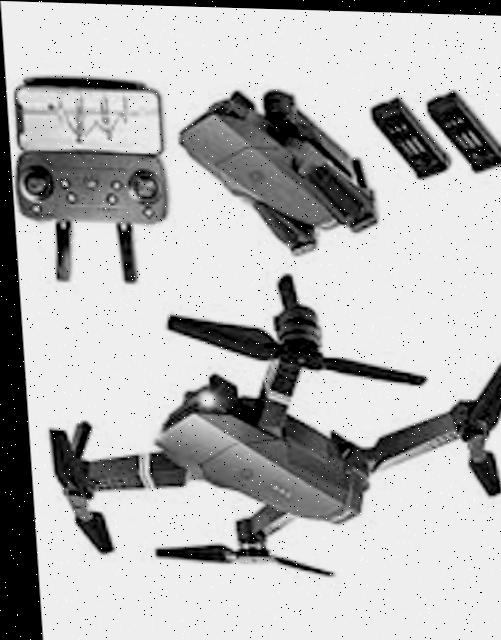drone: (14, 258, 501, 597)
